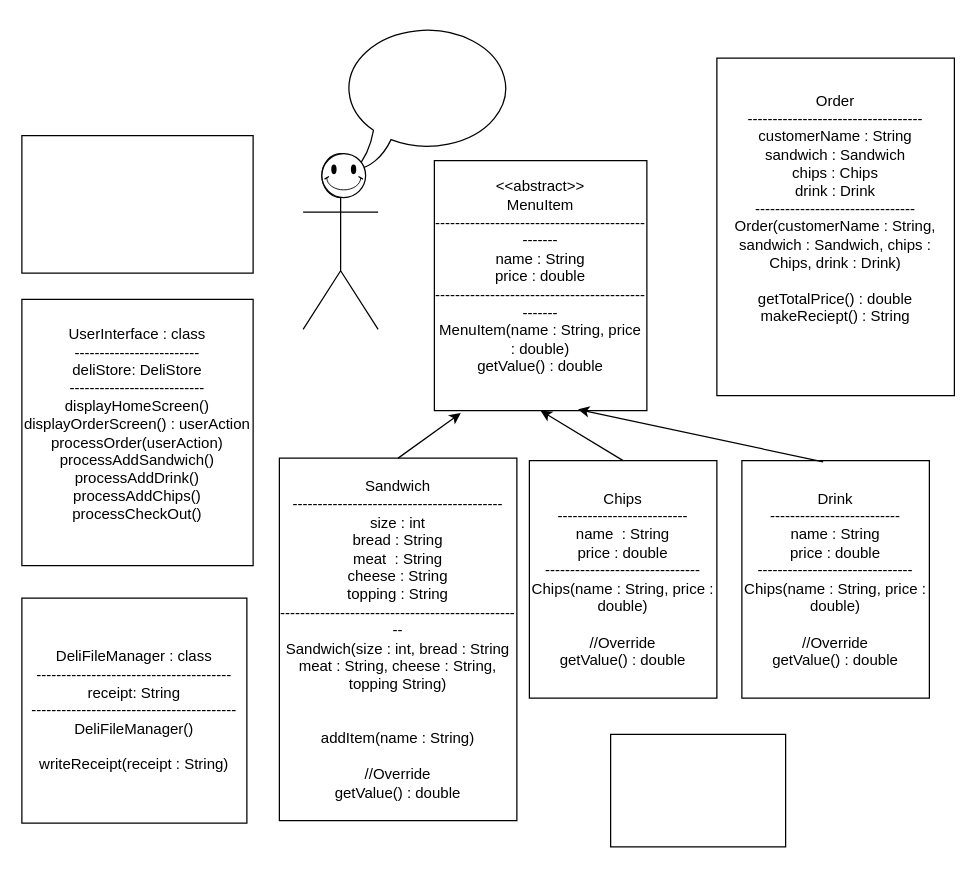
Image size: 976x869. Some labels were removed from this diagram. The shapes that lost their labels are listed below. From the top down, each one's box as (x1, y1, x2, y2) in pixels, then its label:
(339, 22, 516, 170): HOT SOUP! COMIN THROUGH!
(21, 134, 253, 273): Main ------------------------- main(String[] args)
(302, 152, 378, 329): Actor
(609, 733, 786, 847): Utils ---------------------- All of my Utils members
